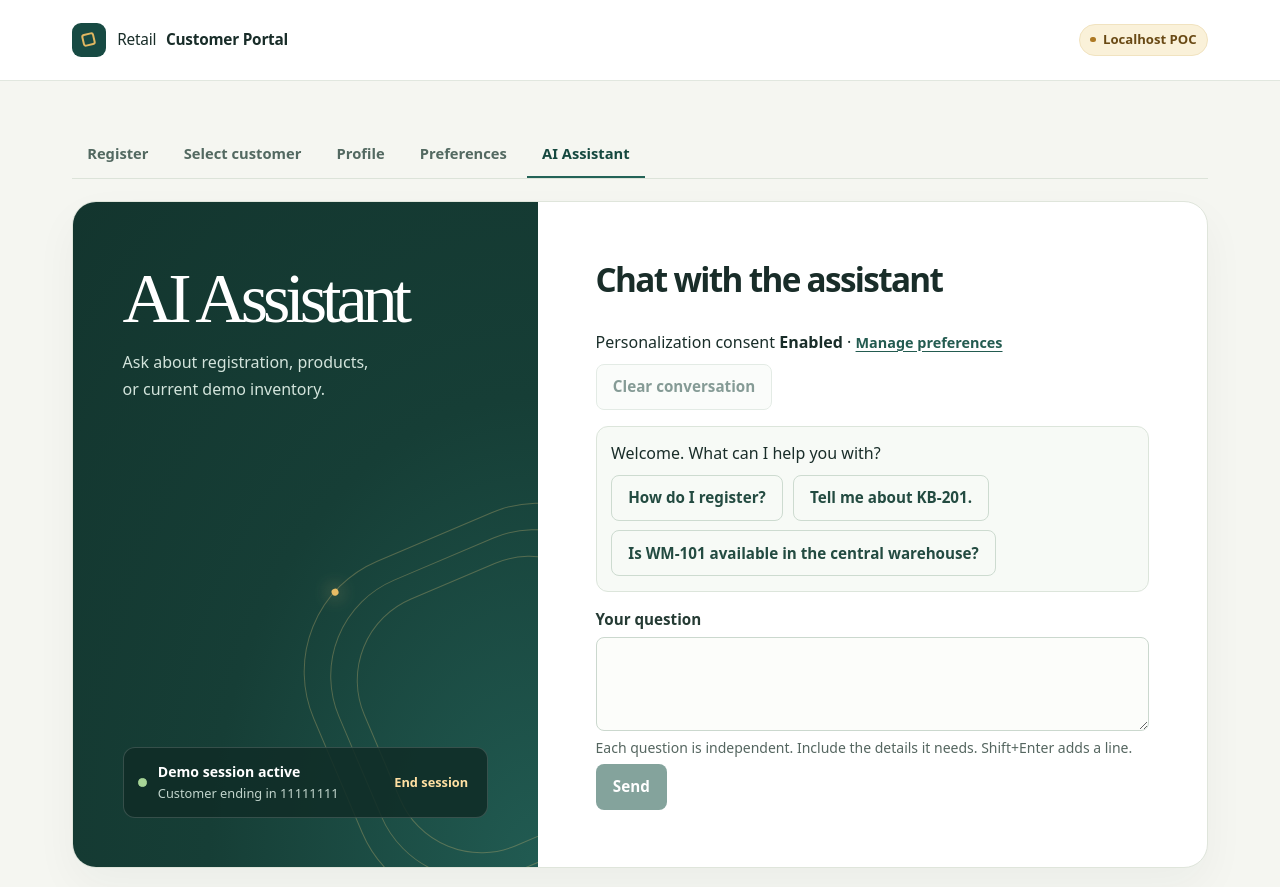
Scenario: drops a delayed personalized response after withdraw
In the text box labelled "Your question": (872, 684) [596, 637, 1149, 732], type "Find a product for me."
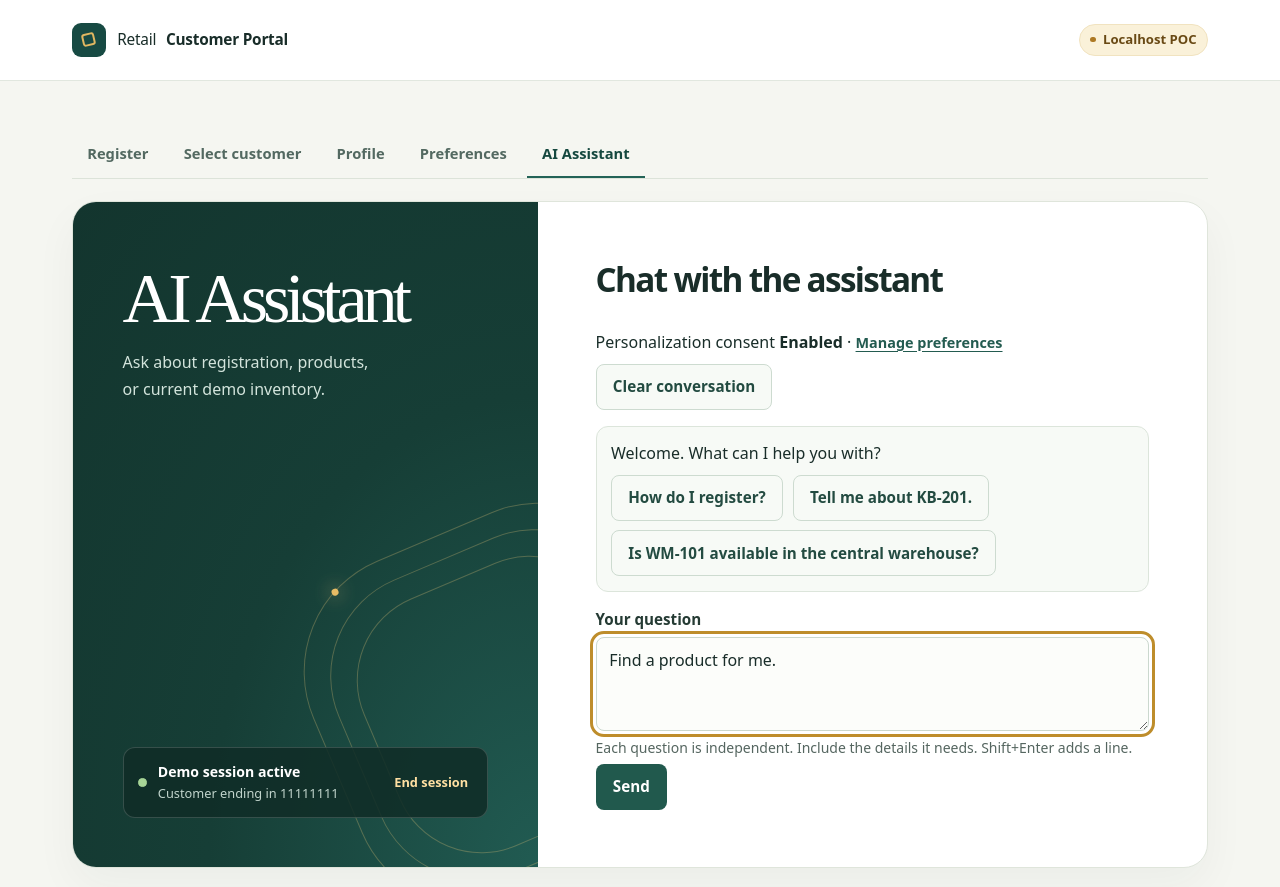
Click the button "Send": (631, 787) [596, 764, 667, 810]
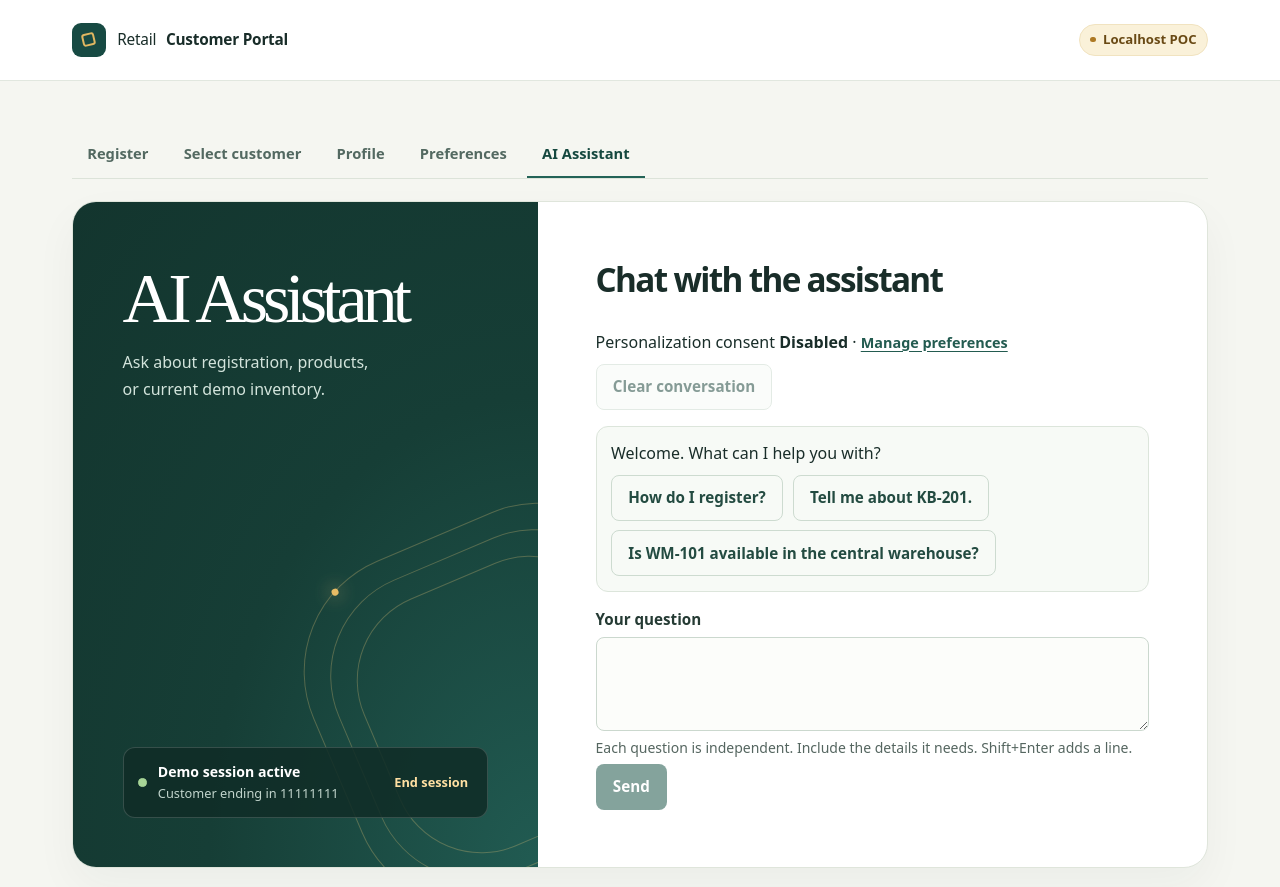
Expected: the text "Welcome. What can I help you with?" is shown, [611, 442, 881, 464]
Result: the text "Disabled" is shown at [779, 331, 848, 353]
